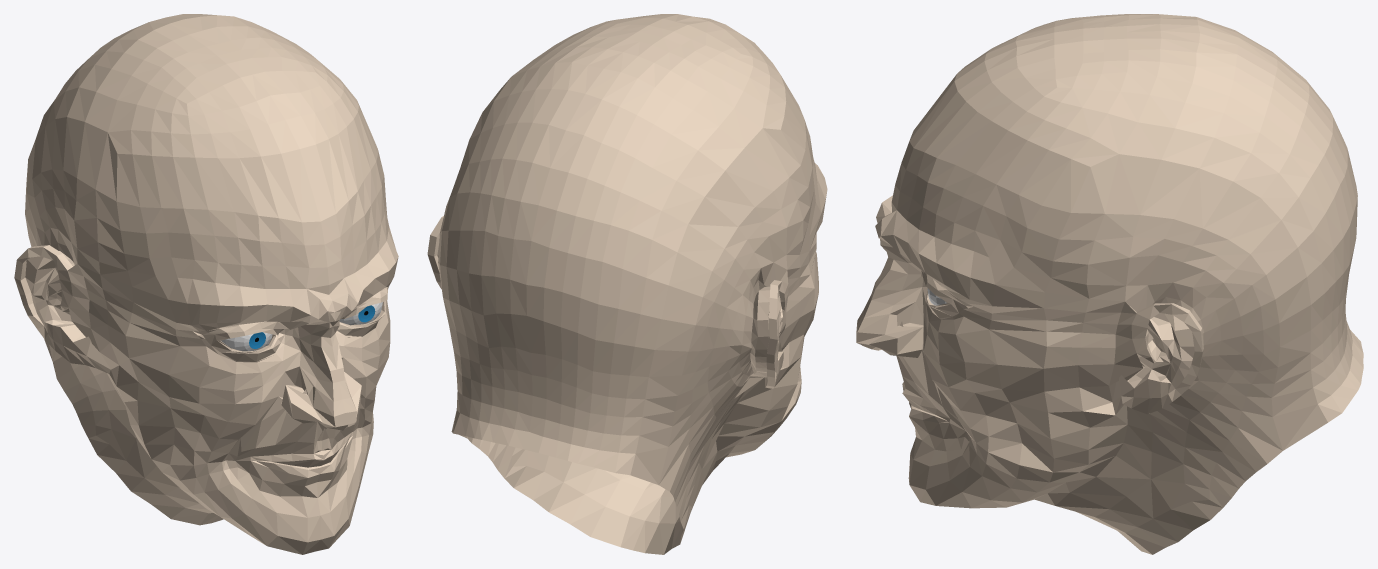
Rendered from Head.fbx.
3 renders of one model, left to right at view 1: azimuth 30°, elevation 25°; view 2: azimuth 150°, elevation 25°; view 3: azimuth 270°, elevation 25°, orthographic. The views are drawn at different scales.
Visible parts, largest first — view 1: Face, LeftEye, RightEye; view 2: Face; view 3: Face.
Boxes of the visible parts, x1,y1,x2,y2 form: Face: (14, 14, 398, 554); LeftEye: (221, 332, 272, 351); RightEye: (339, 302, 382, 325); Face: (427, 14, 827, 554); Face: (856, 14, 1363, 554).
Bounding box in the file's own units: 16.85 × 23.25 × 20.75.
